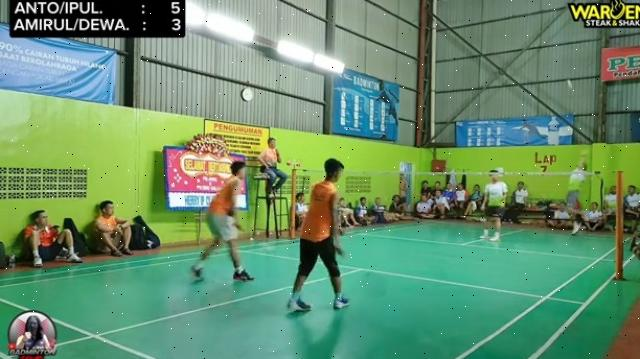Shuttlecock: (566, 77, 578, 89)
